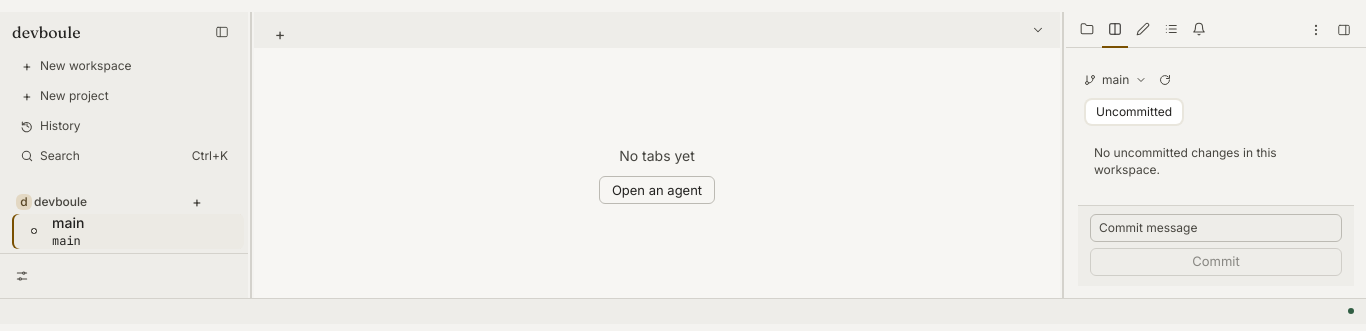
Scenario: Workspace sessions › opens History from the left sidebar
This screenshot has width=1366, height=331.
Step 1. Click the button "History" → (124, 126), box [12,112,236,140]
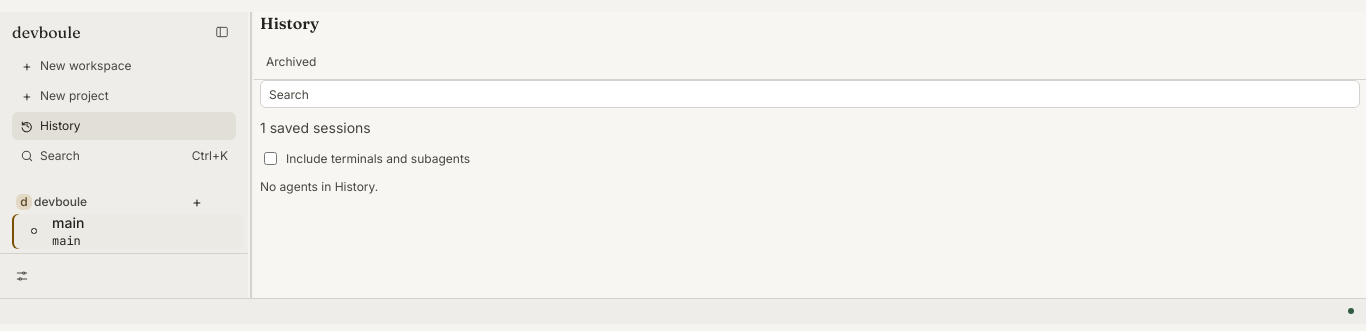
Result: the element with id "workspace-history-panel" is shown at [254,12,1365,205]
Result: the text "No agents in History." is shown at [260,179,378,194]
